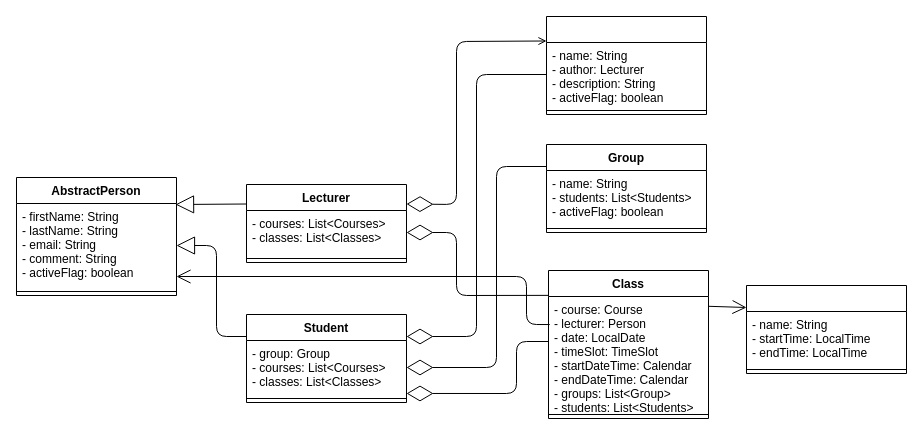
This 923x435 diagram has some shape labels left out. The shapes that lost their labels are listed below. From the top down, each one's box as (x1, y1, x2, y2) in pixels, then its label:
(546, 16, 706, 114): Course
(746, 284, 906, 374): TimeSlot
